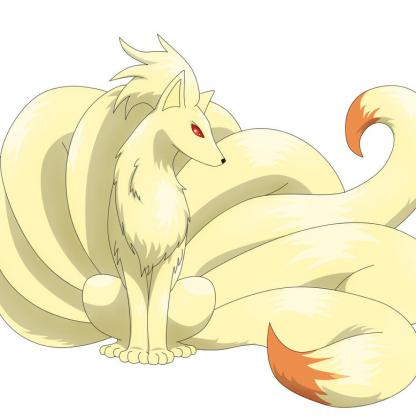Ninetales: (1, 32, 416, 410)
